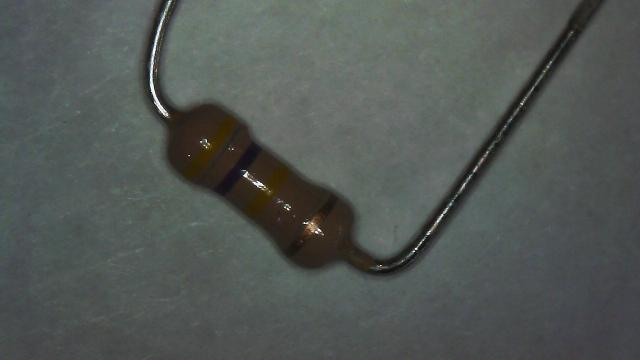gold: (286, 195, 336, 258)
resistor: (130, 81, 390, 294)
violet: (214, 141, 263, 196)
yellow: (183, 115, 238, 180), (243, 163, 290, 218)
